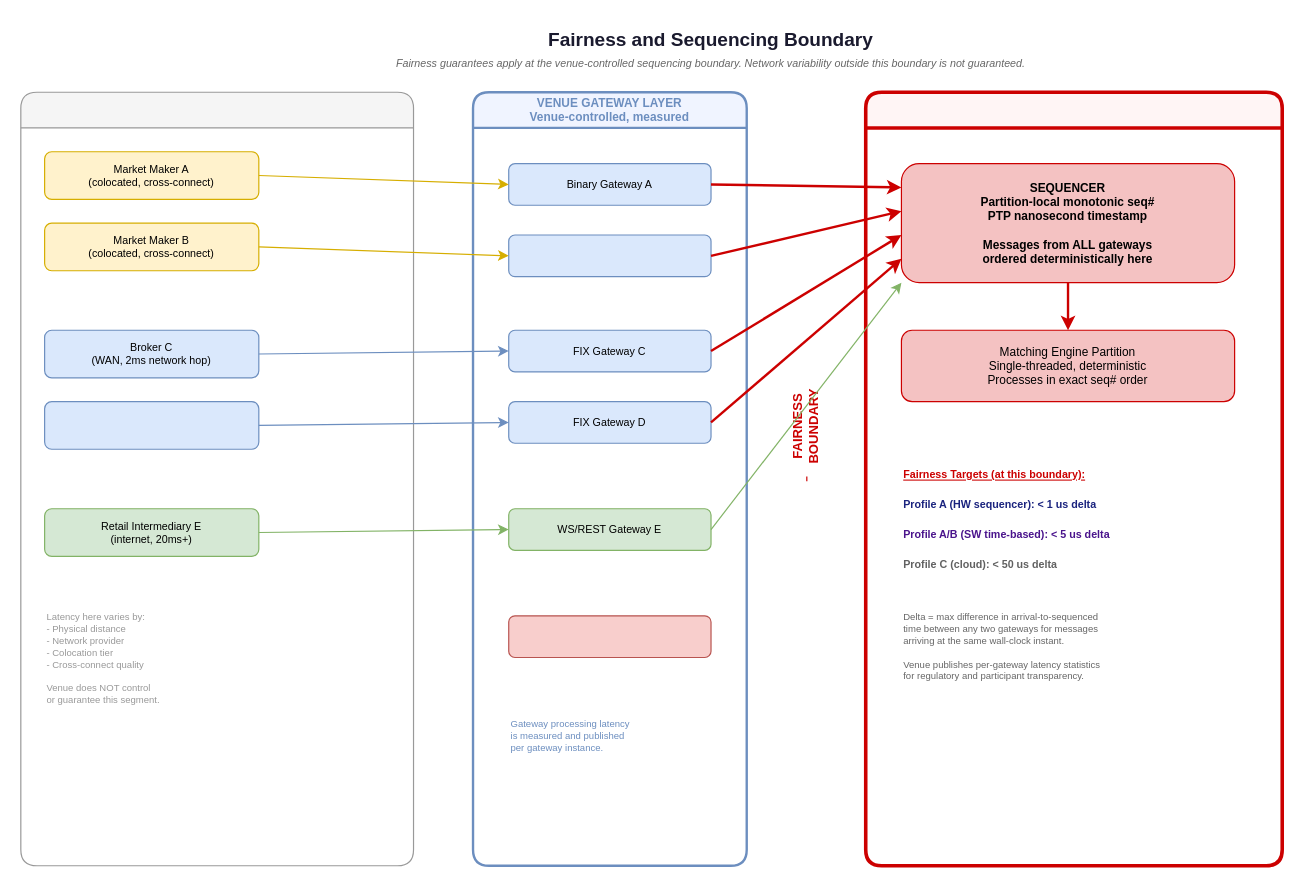
Some shapes in this 1304 by 888 pixel diagram are drawn without their labels. The box of each missing label's shape, as (x1, y1, x2, y2) in pixels:
Binary Gateway B: (508, 234, 711, 277)
Broker D (WAN, 5ms network hop): (43, 400, 259, 449)
OUTSIDE VENUE BOUNDARY Network variability NOT guaranteed: (20, 91, 414, 866)
Pre-Trade Risk (all gateways): (508, 615, 711, 657)
VENUE SEQUENCING BOUNDARY Fairness guarantees BEGIN here: (863, 90, 1283, 867)
